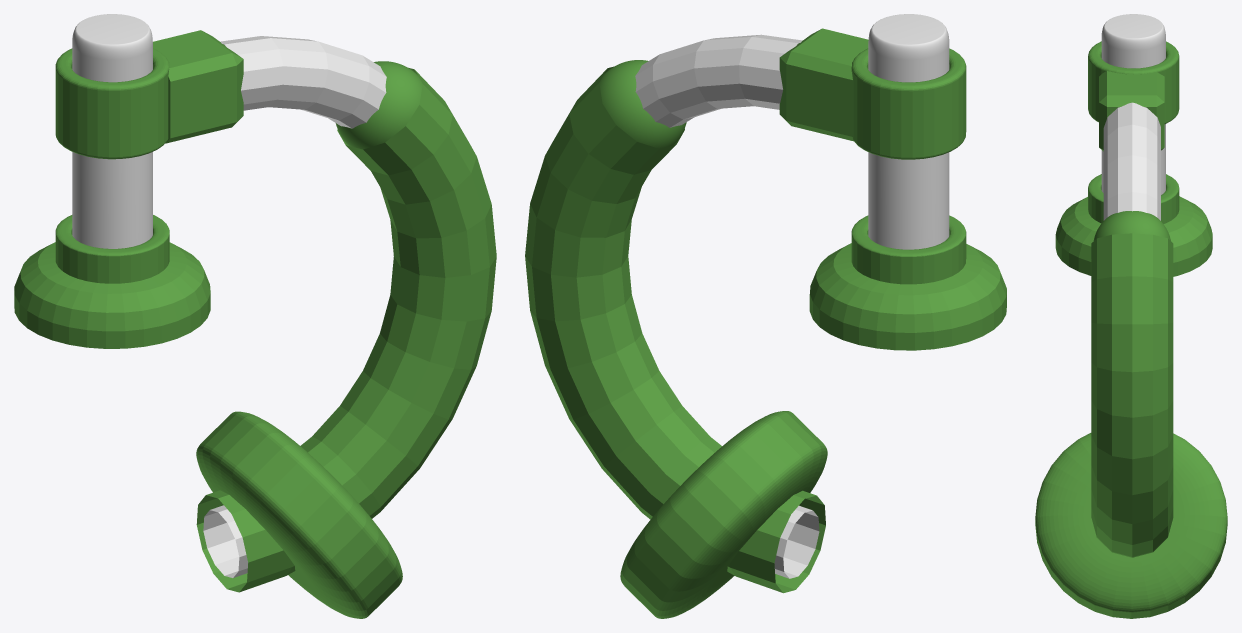
File: obstacle 3.fbx
3 views of the same model, side by side, from view 1: azimuth 30°, elevation 25°; view 2: azimuth 150°, elevation 25°; view 3: azimuth 270°, elevation 25° (orthographic). The views are drawn at different scales.
Parts seen in each view (by area): view 1: Circle, Cylinder.021, Cylinder.023, Circle.001, Cylinder.025, Cylinder.022, Cube.003, Cylinder.024, Sphere.003; view 2: Circle, Cylinder.021, Cylinder.023, Circle.001, Cylinder.025, Cylinder.022, Cube.003, Cylinder.024, Sphere.003; view 3: Circle, Cylinder.021, Circle.001, Cylinder.023, Cylinder.025, Cube.003, Cylinder.022, Sphere.003, Cylinder.024.
Part boxes in pixels (bbox=[...]): Circle: bbox=[196, 67, 496, 592]; Cylinder.021: bbox=[196, 411, 402, 618]; Cylinder.023: bbox=[14, 242, 210, 348]; Circle.001: bbox=[203, 36, 386, 577]; Cylinder.025: bbox=[72, 14, 152, 248]; Cylinder.022: bbox=[55, 48, 169, 159]; Cube.003: bbox=[153, 30, 243, 143]; Cylinder.024: bbox=[55, 215, 169, 283]; Sphere.003: bbox=[335, 61, 422, 149]; Circle: bbox=[525, 66, 825, 593]; Cylinder.021: bbox=[620, 411, 827, 618]; Cylinder.023: bbox=[809, 243, 1006, 350]; Circle.001: bbox=[635, 34, 819, 578]; Cylinder.025: bbox=[868, 14, 949, 249]; Cylinder.022: bbox=[851, 48, 966, 159]; Cube.003: bbox=[779, 28, 868, 141]; Cylinder.024: bbox=[851, 215, 966, 284]; Sphere.003: bbox=[599, 60, 686, 148]; Circle: bbox=[1091, 233, 1173, 557]; Cylinder.021: bbox=[1035, 433, 1227, 618]; Circle.001: bbox=[1103, 102, 1160, 220]; Cylinder.023: bbox=[1055, 196, 1212, 276]; Cylinder.025: bbox=[1101, 14, 1165, 194]; Cube.003: bbox=[1099, 71, 1164, 151]; Cylinder.022: bbox=[1088, 41, 1179, 123]; Sphere.003: bbox=[1093, 211, 1170, 240]; Cylinder.024: bbox=[1088, 174, 1179, 223].
Bounding box in the file's own units: 207 × 271 × 93.77.
